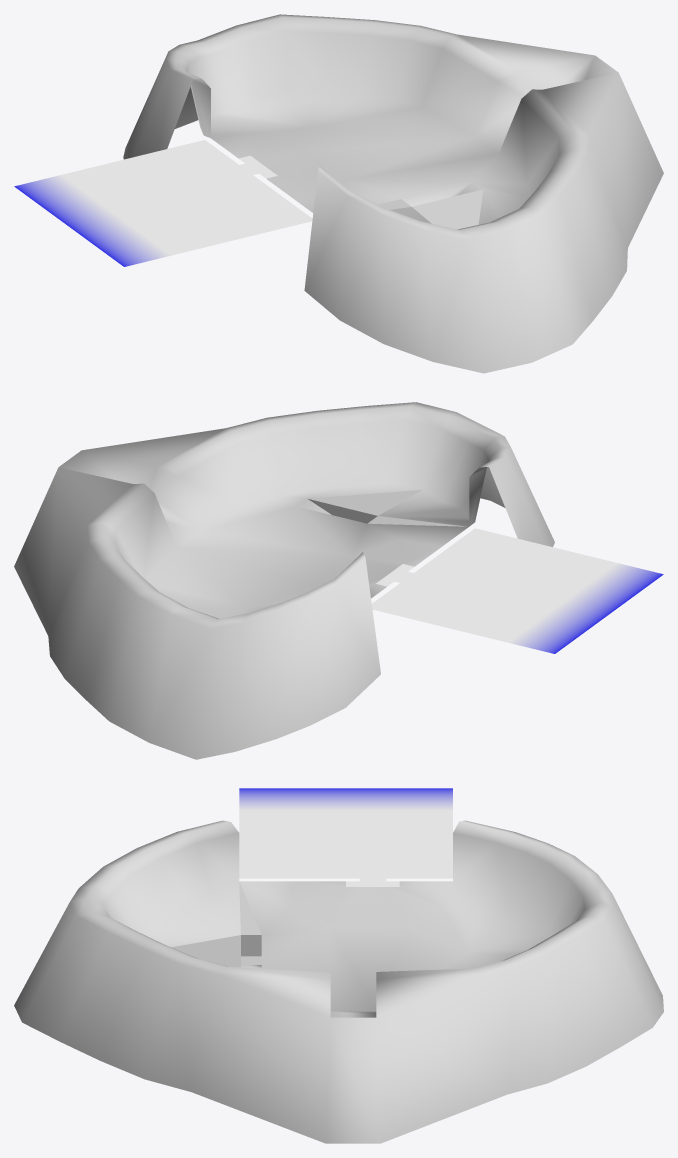
File: castello.dae
The picture shows the model from 3 angles, top to bottom: view 1: azimuth 30°, elevation 25°; view 2: azimuth 150°, elevation 25°; view 3: azimuth 270°, elevation 25°; orthographic projection. The views are drawn at different scales.
Parts seen in each view (by area): view 1: Grounde; view 2: Grounde; view 3: Grounde.
Part boxes in pixels (left/top/right/bottom): Grounde: left=14, top=14, right=663, bottom=373; Grounde: left=14, top=402, right=663, bottom=759; Grounde: left=14, top=788, right=663, bottom=1143.
Size of the model in its own units: 97.95 by 97.29 by 23.78.
